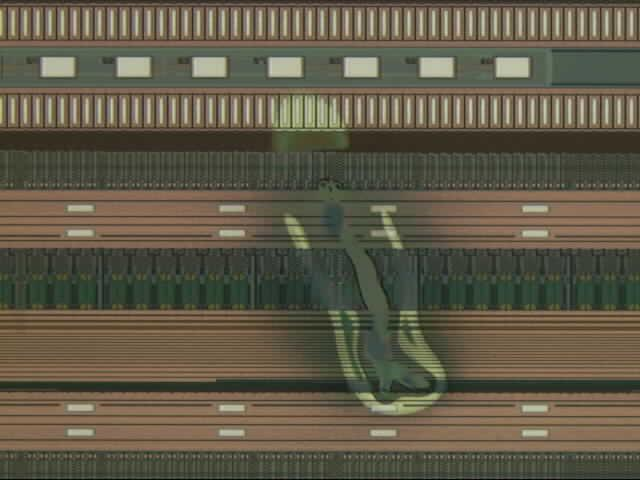BLOCK ETCH: (265, 91, 455, 424)
